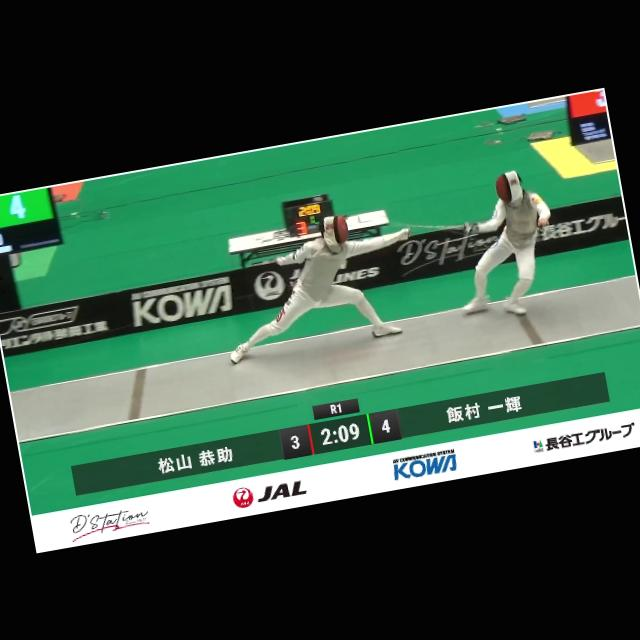blade: (399, 210, 492, 266), (396, 204, 478, 246)
